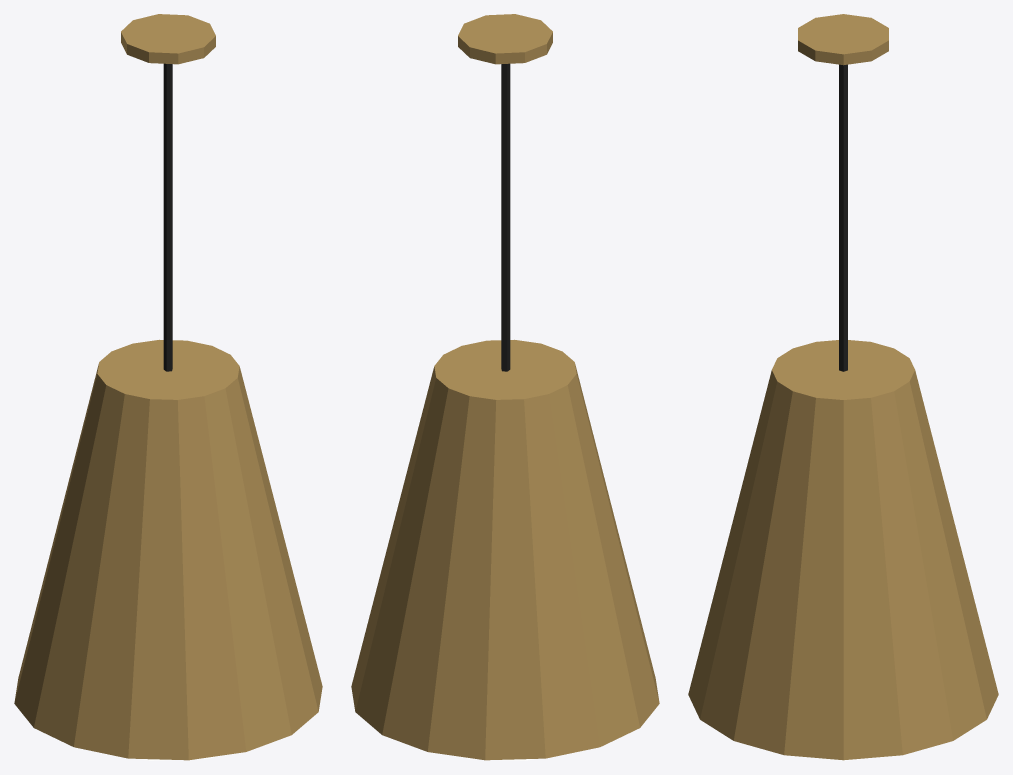
File: pendente_dourado.glb
3 renders of one model, left to right at view 1: azimuth 30°, elevation 25°; view 2: azimuth 150°, elevation 25°; view 3: azimuth 270°, elevation 25°, orthographic.
Parts seen in each view (by area): view 1: pendente_dourado; view 2: pendente_dourado; view 3: pendente_dourado.
Part boxes in pixels (box(x1,y1,x2,y2)): pendente_dourado: box(14, 14, 322, 760); pendente_dourado: box(351, 14, 659, 760); pendente_dourado: box(688, 14, 998, 760).
Bounding box in the file's own units: 0.26 × 0.62 × 0.26.
